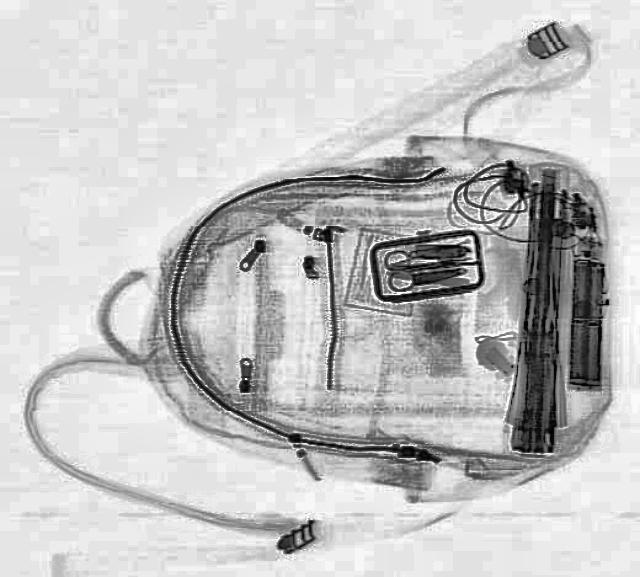Scissors: (380, 242, 458, 290)
